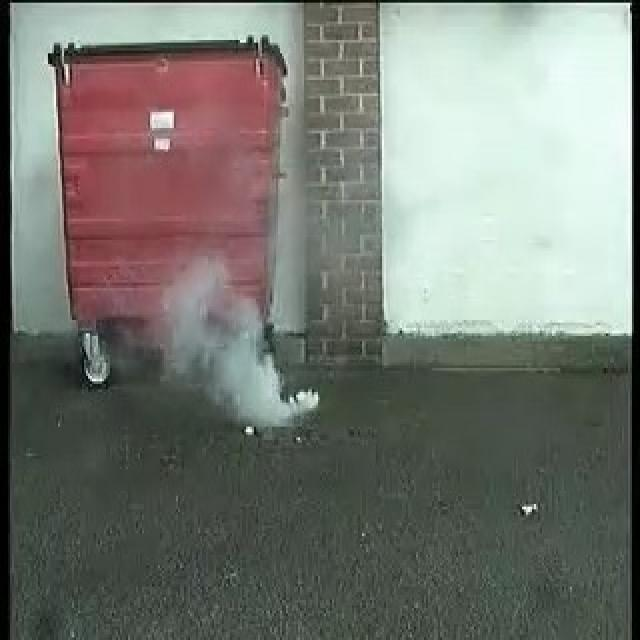smoke: (161, 270, 320, 428)
